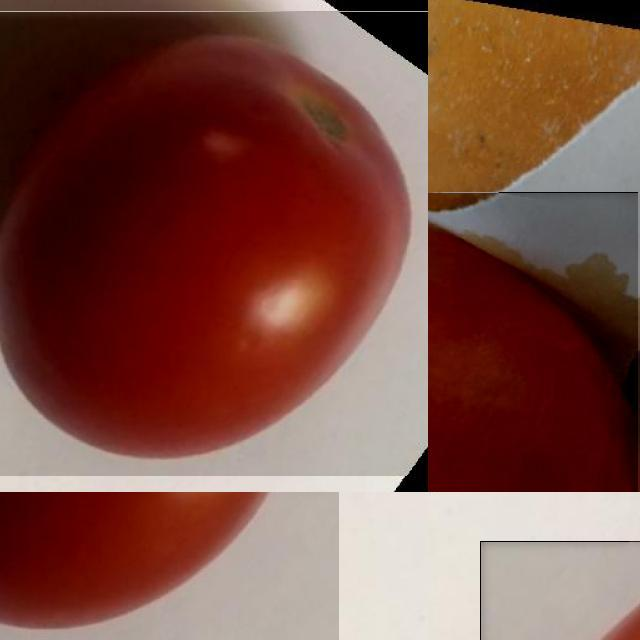Fresh Tomato: (0, 10, 428, 476), (0, 492, 339, 640), (480, 541, 640, 640)
Rotten Tomato: (428, 192, 638, 492)
